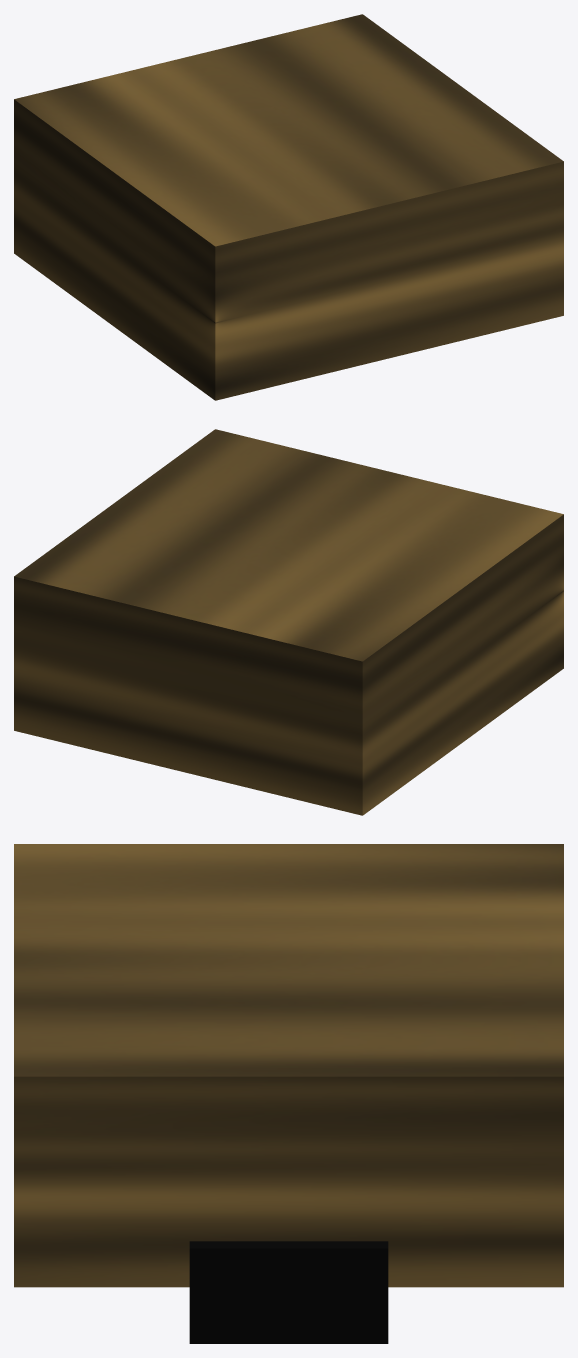
Rendered from chest-lid.fbx.
3 views of the same model, one above another, from view 1: azimuth 30°, elevation 25°; view 2: azimuth 150°, elevation 25°; view 3: azimuth 270°, elevation 25° (orthographic). The views are drawn at different scales.
Parts seen in each view (by area): view 1: Cube; view 2: Cube; view 3: Cube.
Boxes of the visible parts, x1,y1,x2,y2 form: Cube: (14,14,563,400); Cube: (14,429,563,815); Cube: (14,844,563,1343).
Bounding box in the file's own units: 206 × 104 × 200.
